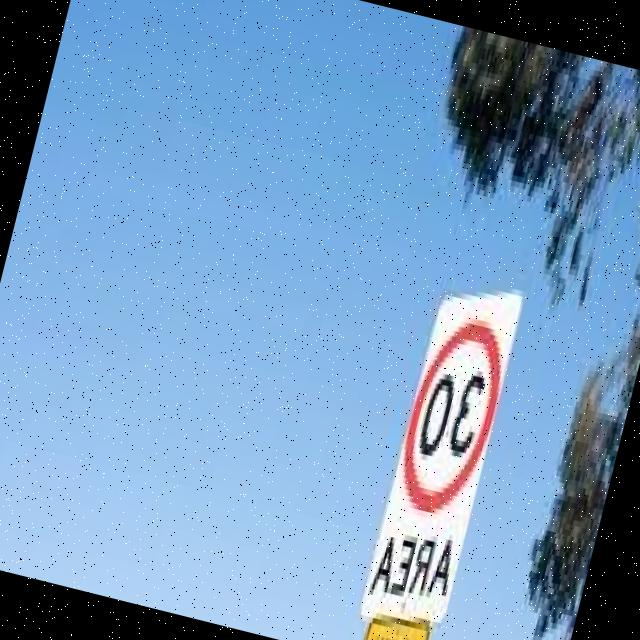speed_limit_30: (383, 298, 520, 520)
